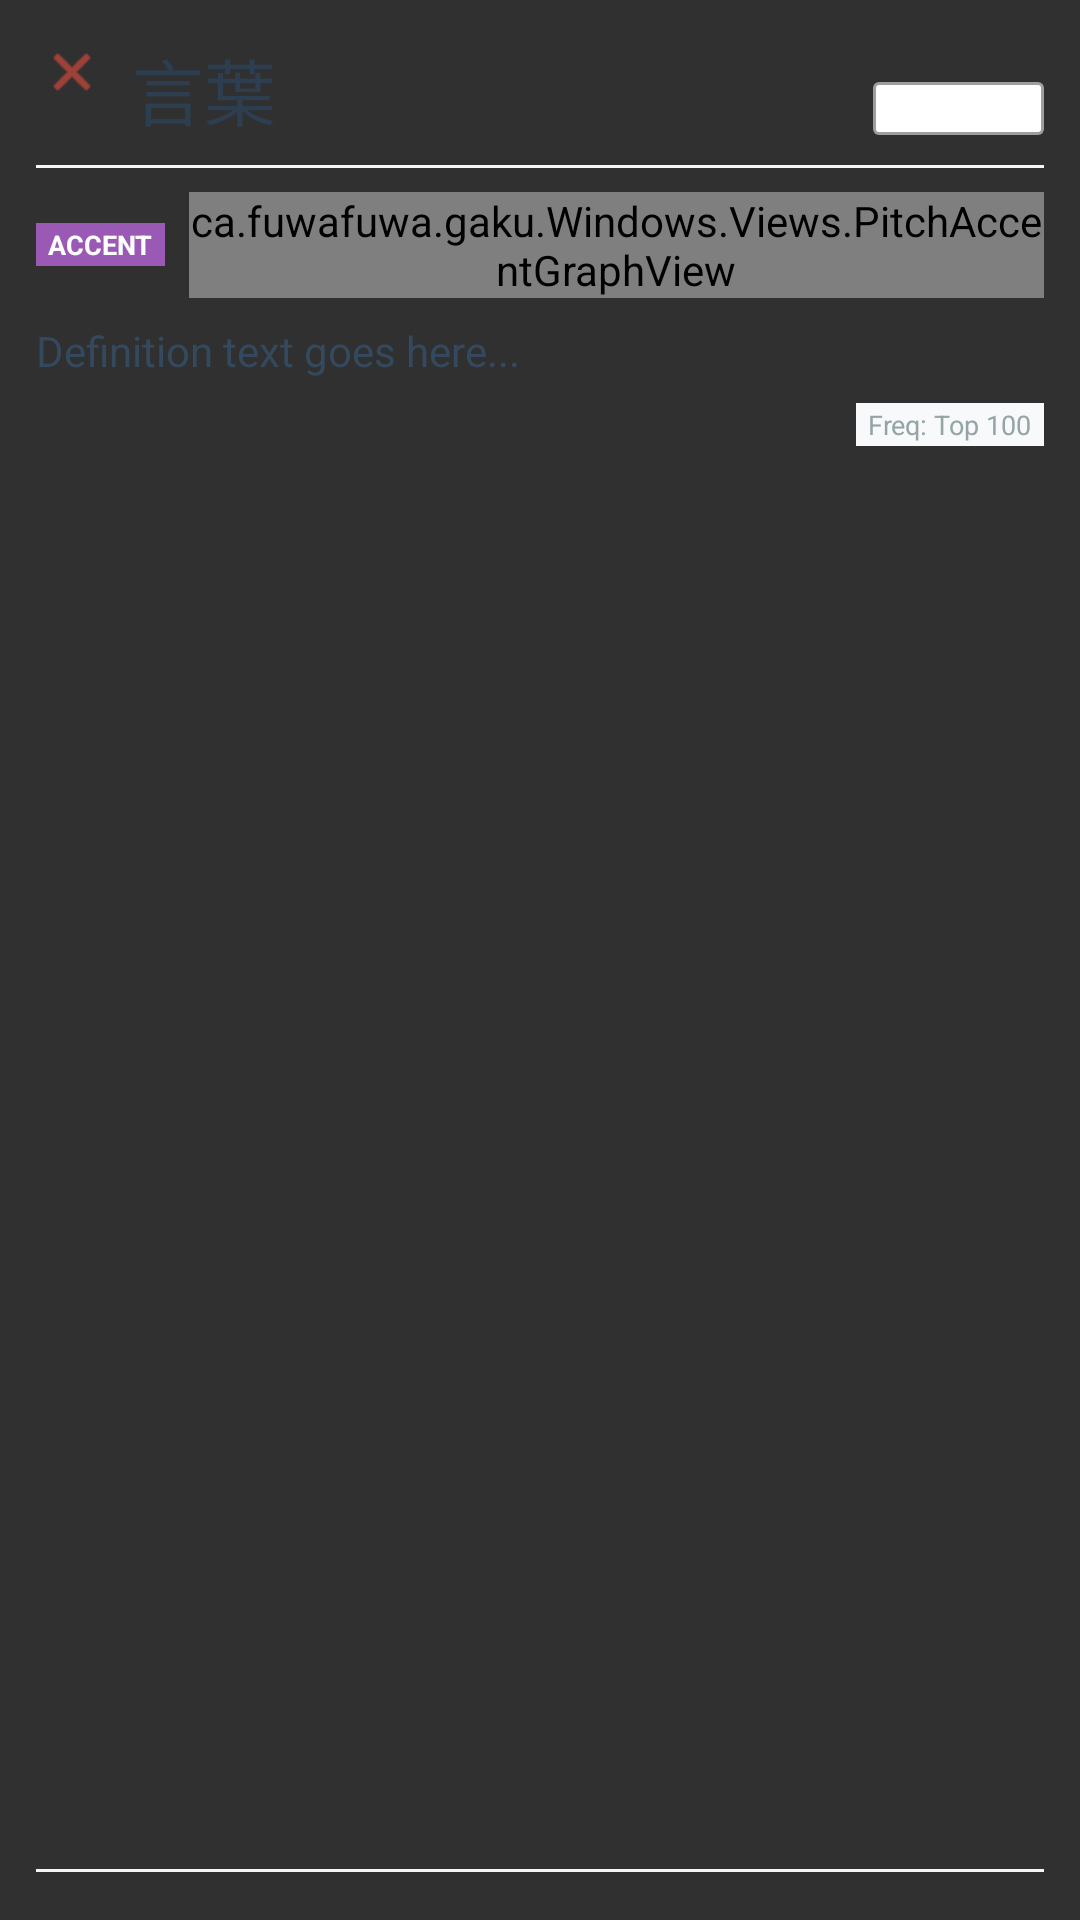

Named icons in this screenshot (1080×1920) and their bounding boxes, (x1, y1, x2, y2):
Close: (53, 53, 91, 91)
